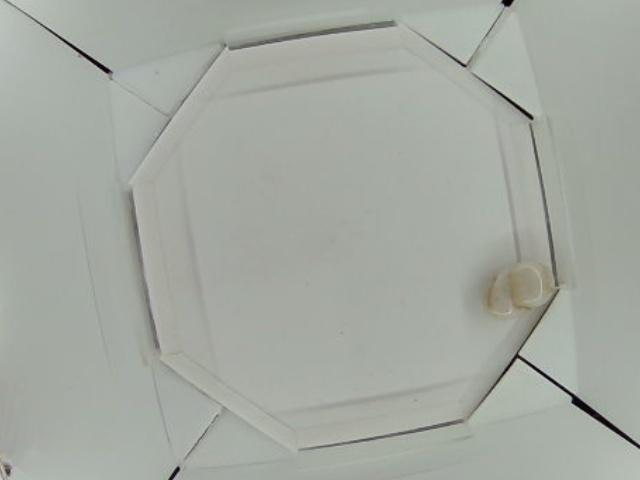Pebble: (489, 265, 546, 317)
